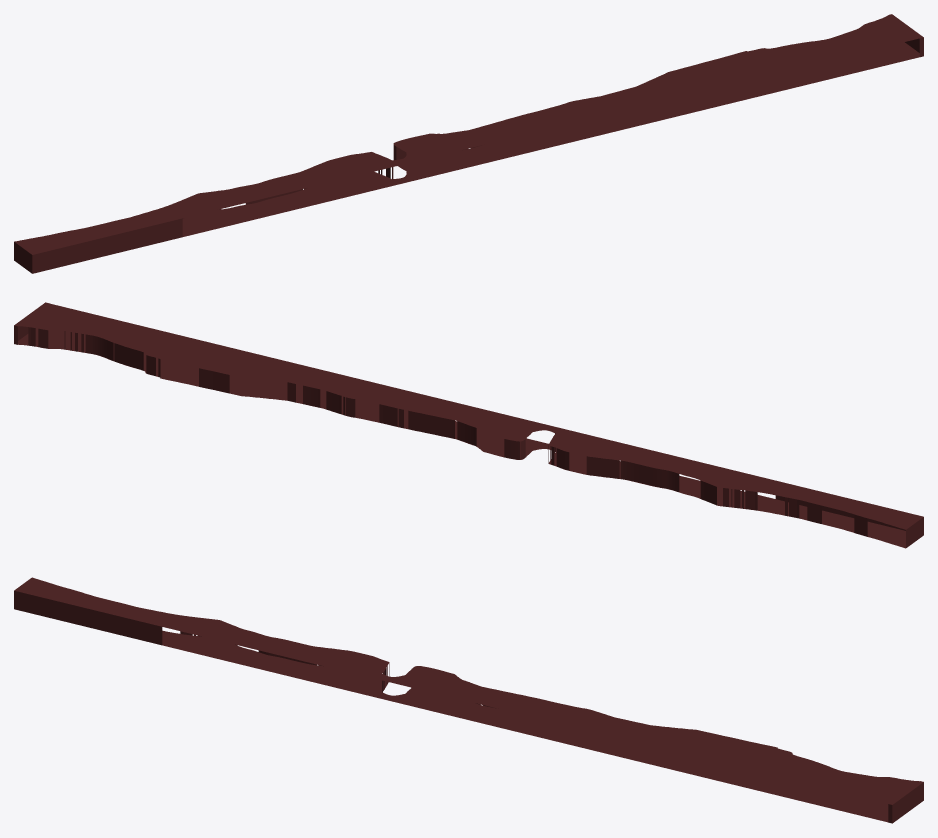
The model's file is Land.FBX.
3 views of the same model, one above another, from view 1: azimuth 30°, elevation 25°; view 2: azimuth 150°, elevation 25°; view 3: azimuth 330°, elevation 25° (orthographic).
Parts seen in each view (by area): view 1: Shape1; view 2: Shape1; view 3: Shape1.
Part boxes in pixels (x1,y1,x2,y2): Shape1: (14,14,923,273); Shape1: (14,302,923,548); Shape1: (14,577,923,823).
Size of the model in its own units: 98.78 by 2 by 6.14.
